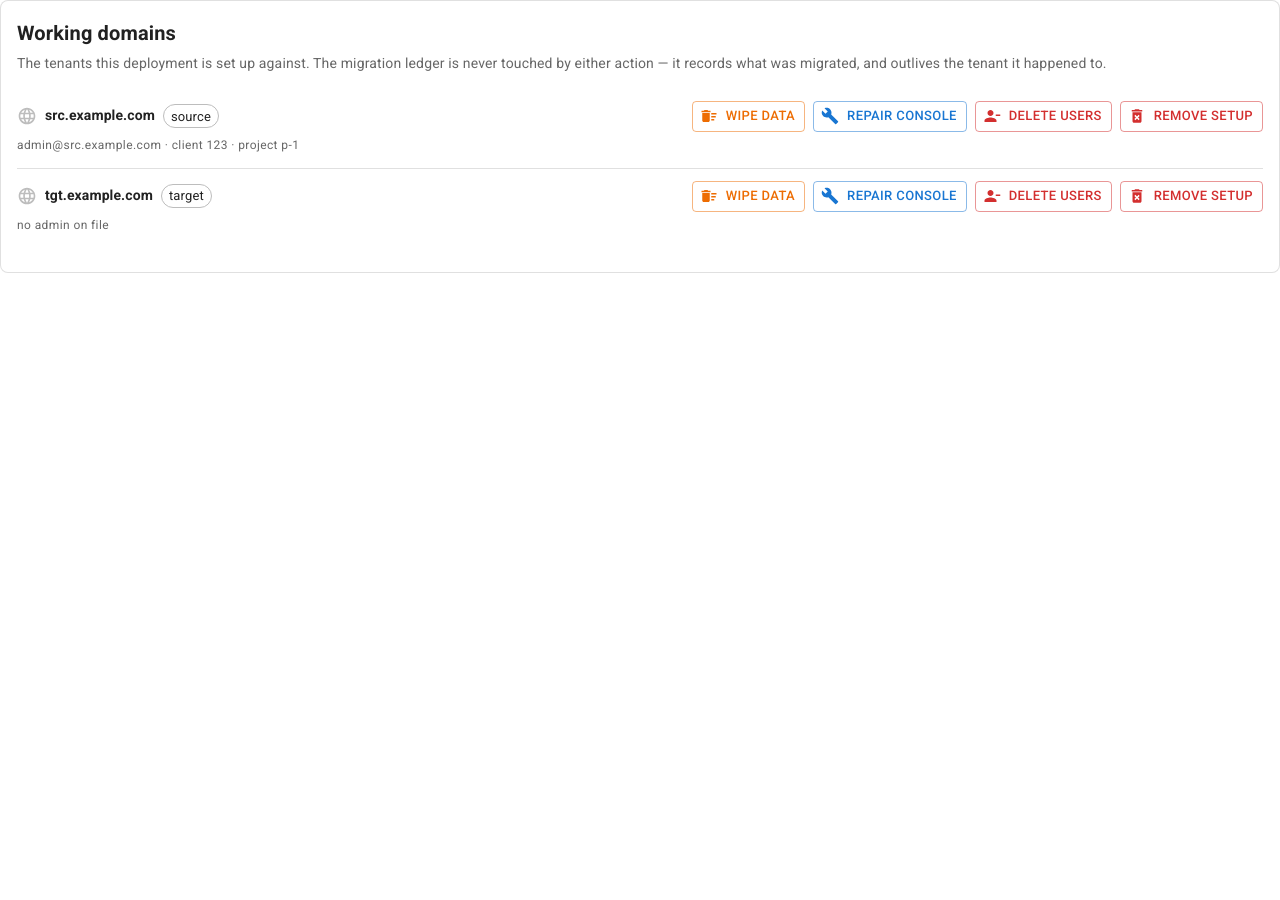
Test case: working domains › tells the wipe apart from the removal in words, not just colour
Step 1. Click the button with test id "wipe-source" → x=748, y=116, box [692, 101, 805, 132]
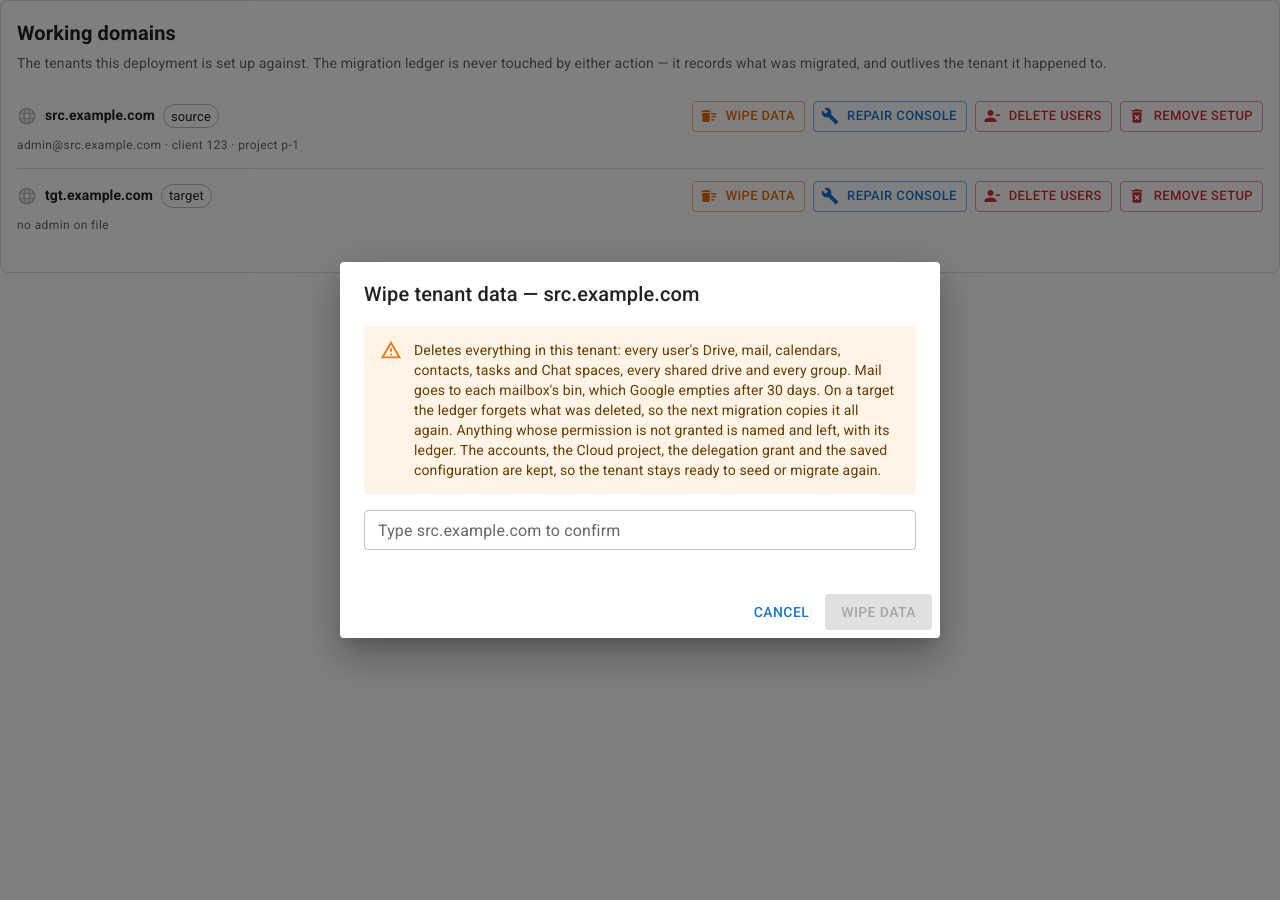
Expected: the text "stays ready to seed or migrate again" is shown, [414, 342, 894, 478]
